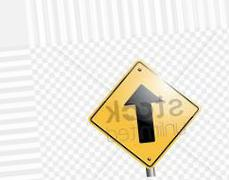forward: (88, 61, 200, 167)
